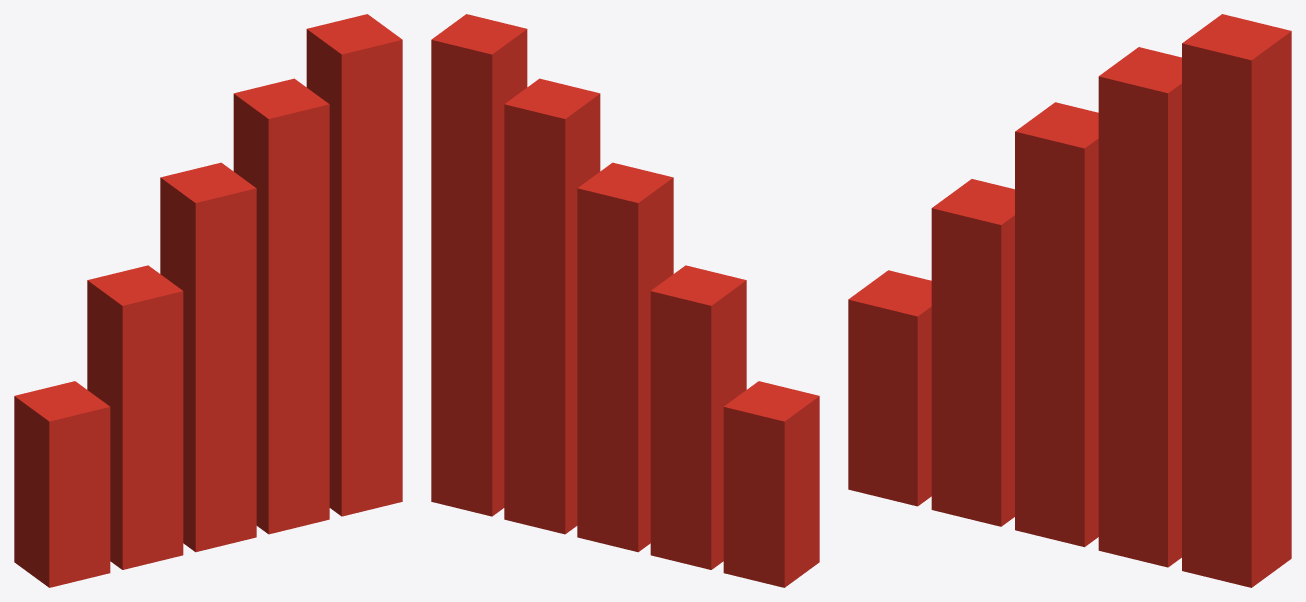
File: analitik.glb
The picture shows the model from 3 angles, left to right: view 1: azimuth 30°, elevation 25°; view 2: azimuth 150°, elevation 25°; view 3: azimuth 330°, elevation 25°; orthographic projection. The views are drawn at different scales.
Parts seen in each view (by area): view 1: Cube.002_2, Cube.001_1; view 2: Cube.002_2, Cube.001_1; view 3: Cube.002_2, Cube.001_1, Cube_0.
Boxes of the visible parts, x1,y1,x2,y2 form: Cube.002_2: (14,78,329,587); Cube.001_1: (306,14,402,516); Cube.002_2: (504,78,819,587); Cube.001_1: (431,14,527,516); Cube.002_2: (848,47,1181,567); Cube.001_1: (1182,14,1291,587); Cube_0: (1168,83,1181,377).
Bounding box in the file's own units: 3.78 × 4.72 × 0.6512.
